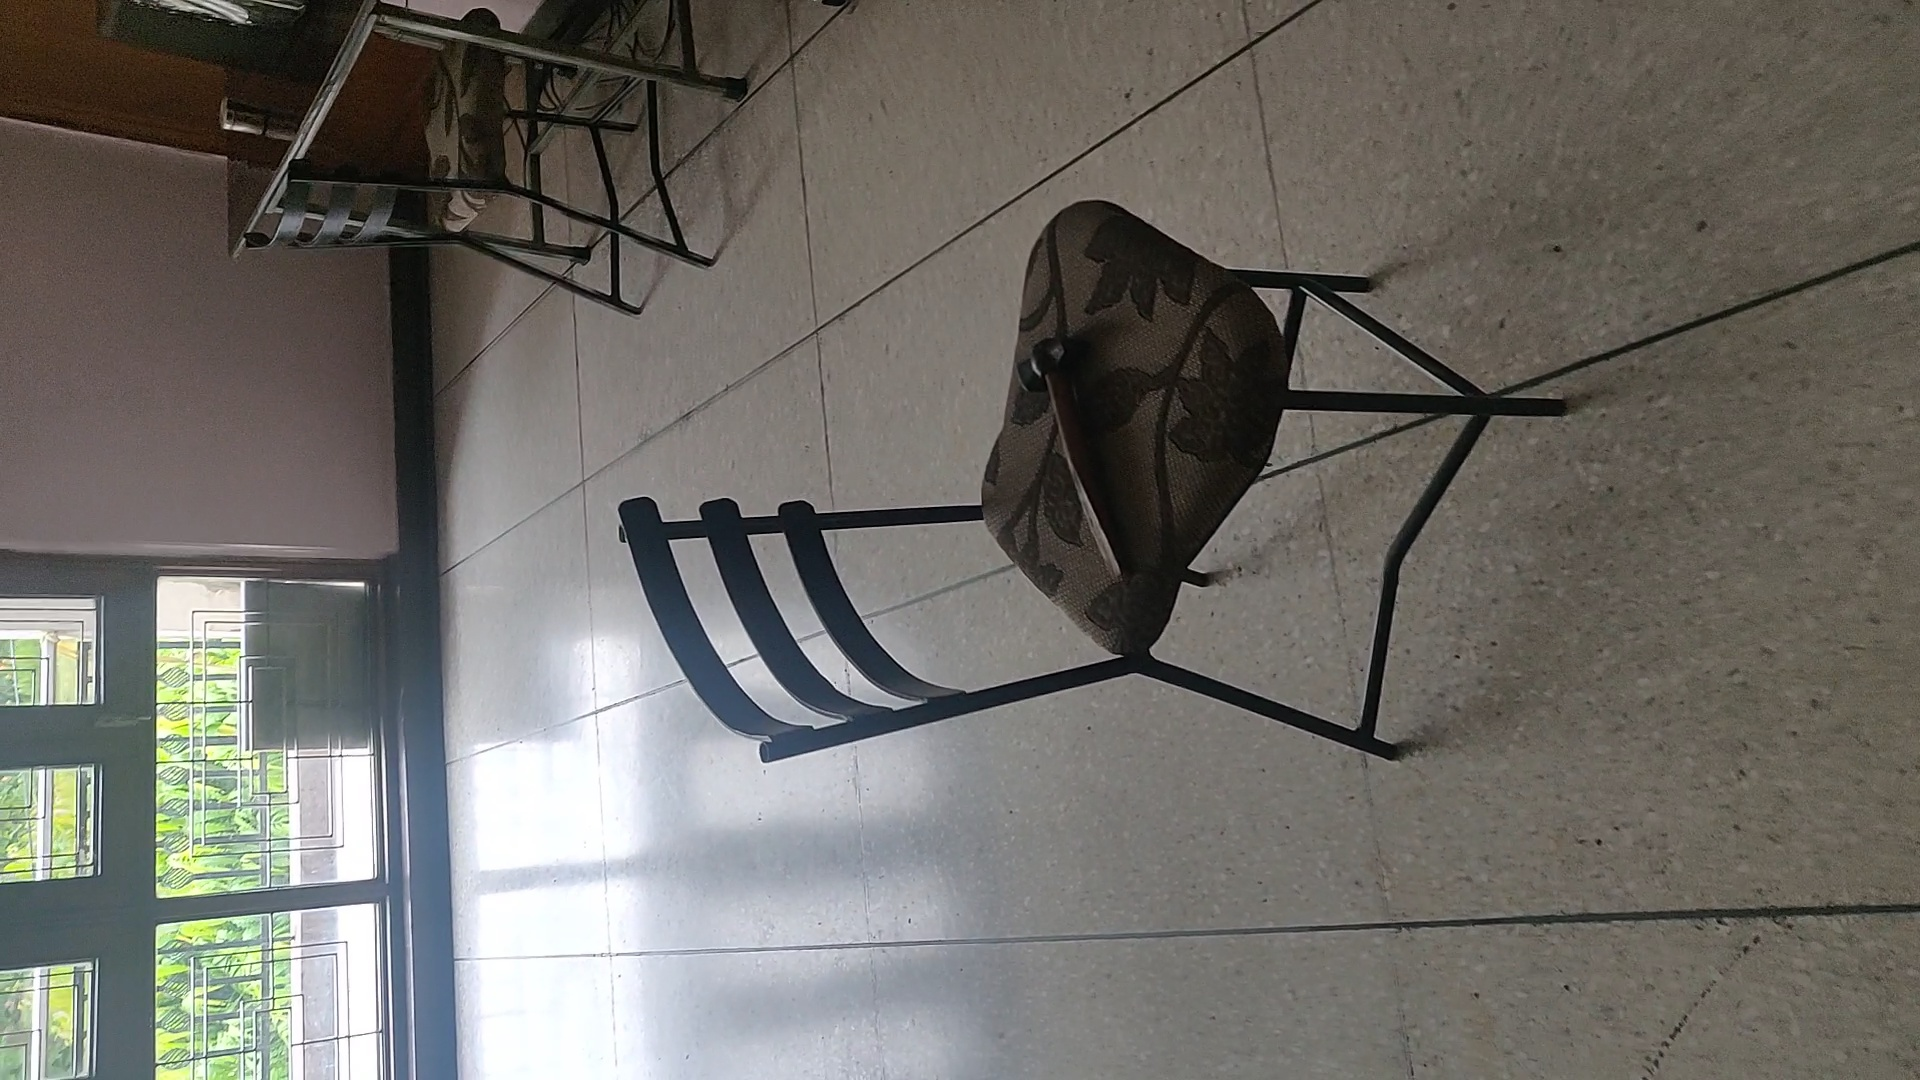hammer: (1013, 334, 1131, 578)
